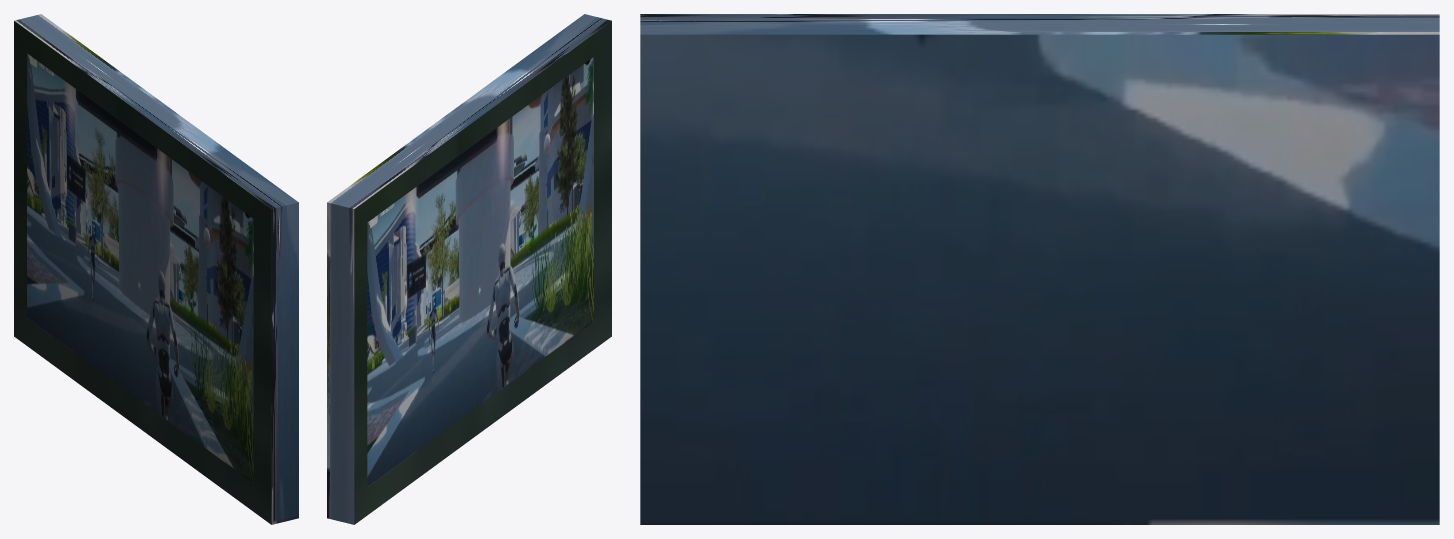
3 renders of one model, left to right at view 1: azimuth 30°, elevation 25°; view 2: azimuth 150°, elevation 25°; view 3: azimuth 270°, elevation 25°, orthographic. The views are drawn at different scales.
Visible parts, largest first — view 1: tv1; view 2: tv1; view 3: tv1.
Boxes of the visible parts, box(x1,y1,x2,y2) form: tv1: box(14, 14, 298, 524); tv1: box(327, 14, 611, 524); tv1: box(640, 14, 1439, 524).
Bounding box in the file's own units: 7.06 × 77.94 × 115.
1 material, 1 textured.
